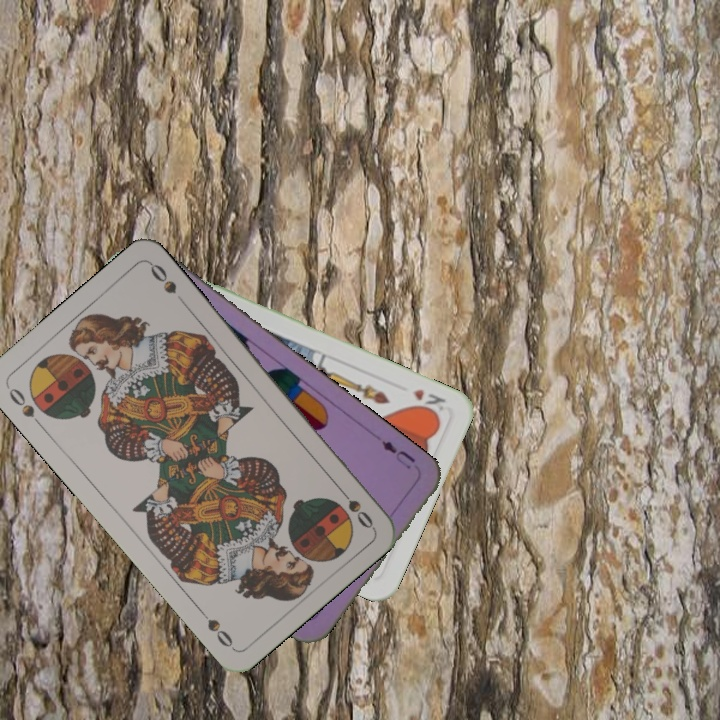EU: (377, 436, 418, 473)
HK: (408, 385, 449, 418)
SO: (333, 481, 376, 532), (3, 382, 46, 431)
